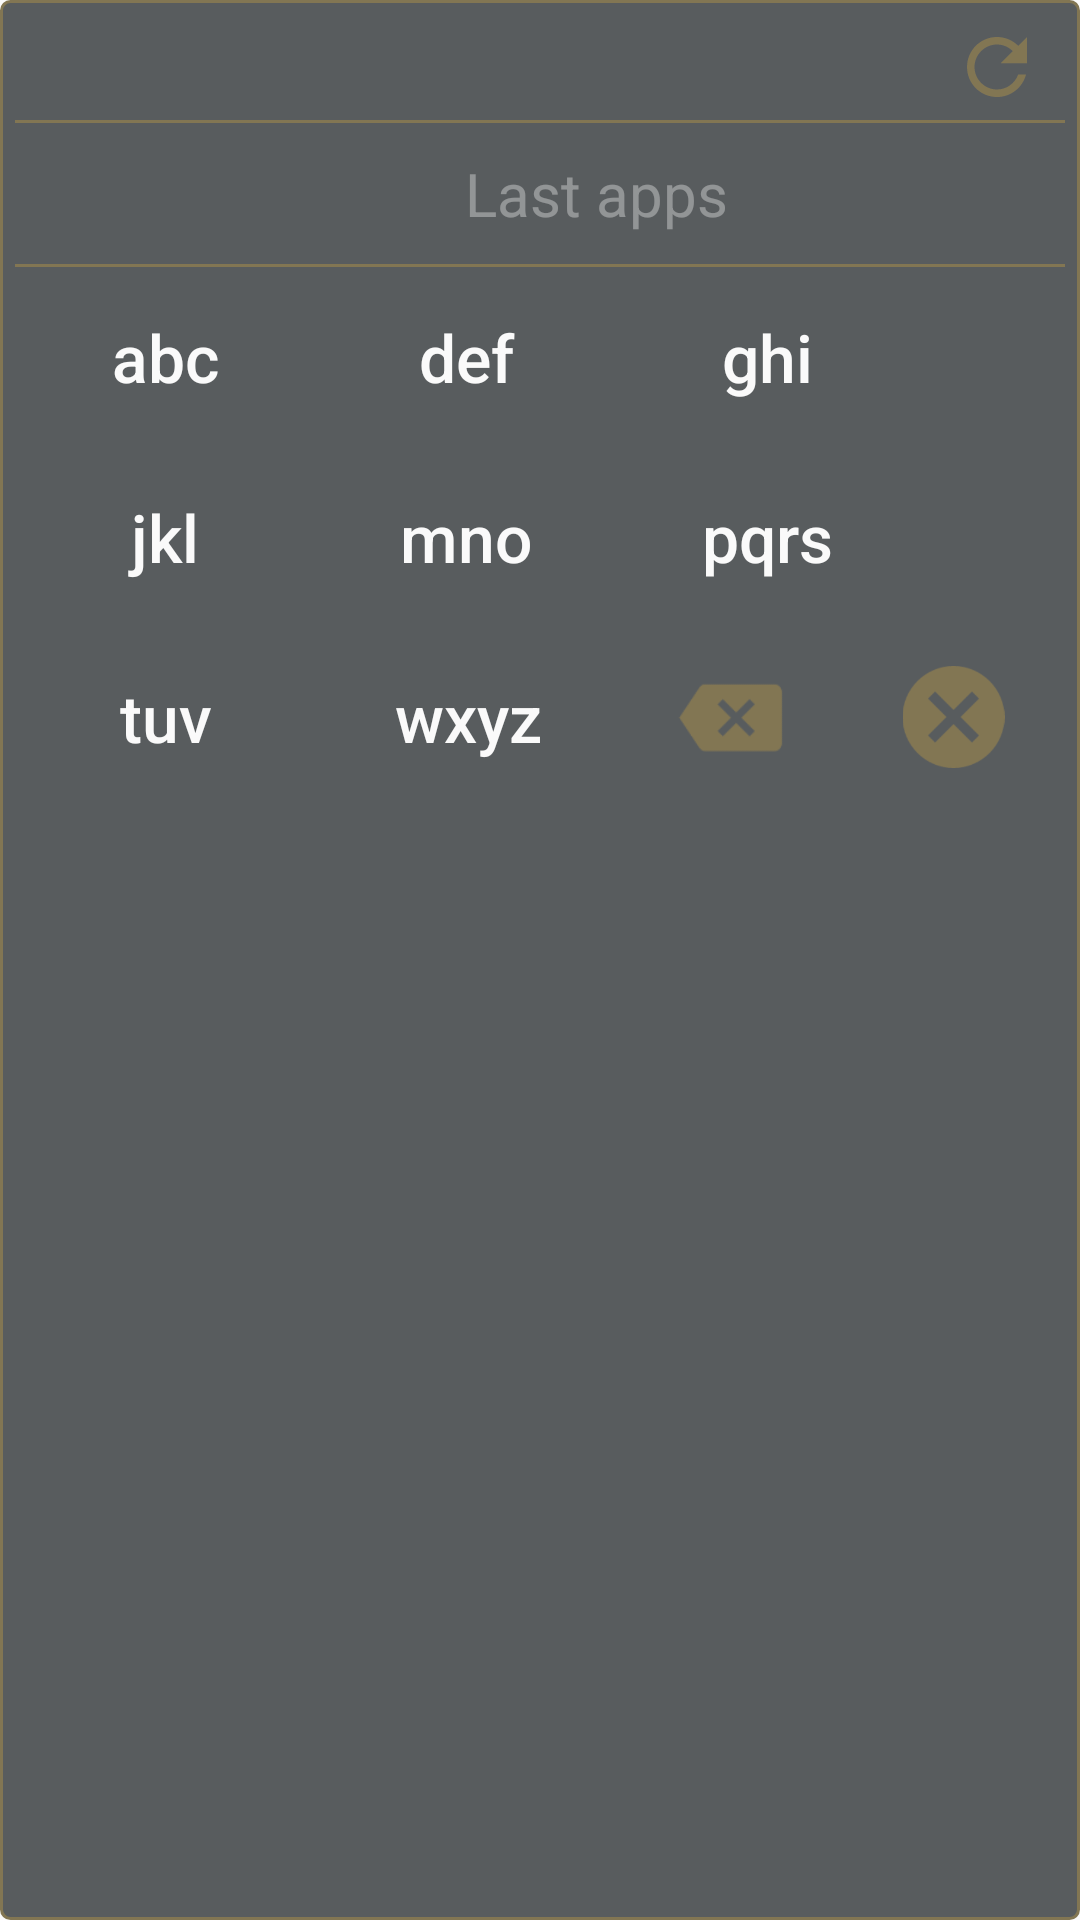

Named icons in this screenshot (1080x1920) and their bounding boxes, (x1, y1, x2, y2):
backspace arrow: (680, 685, 782, 751)
cancel: (903, 666, 1005, 768)
refresh: (967, 37, 1027, 97)
